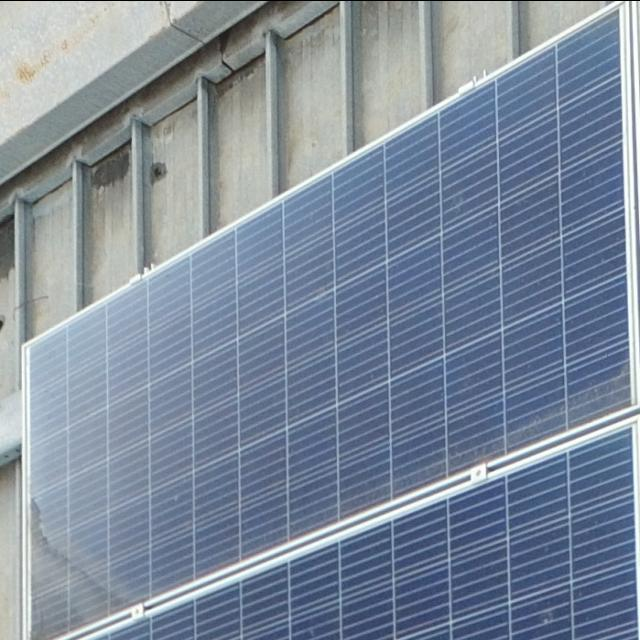Dust: (360, 354, 640, 514), (0, 478, 154, 640)
